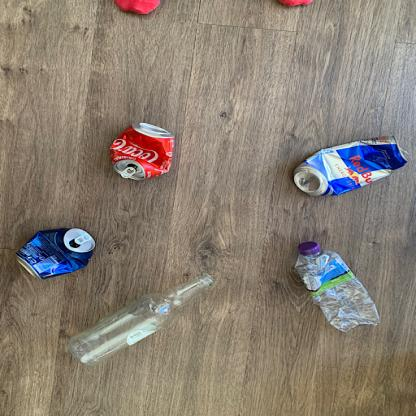trash: (68, 272, 218, 366), (292, 238, 382, 332), (292, 135, 410, 199), (102, 124, 178, 185), (15, 227, 101, 280)
